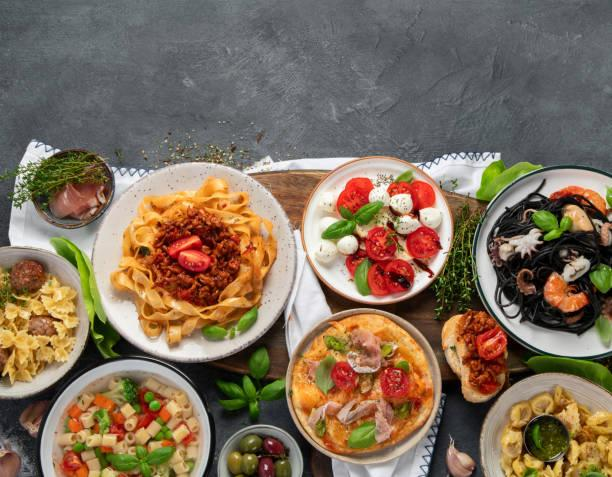Braised Crucian Carp: (92, 162, 292, 360), (470, 164, 611, 358), (286, 307, 440, 465), (300, 156, 451, 304), (38, 356, 211, 476), (478, 372, 609, 474)
